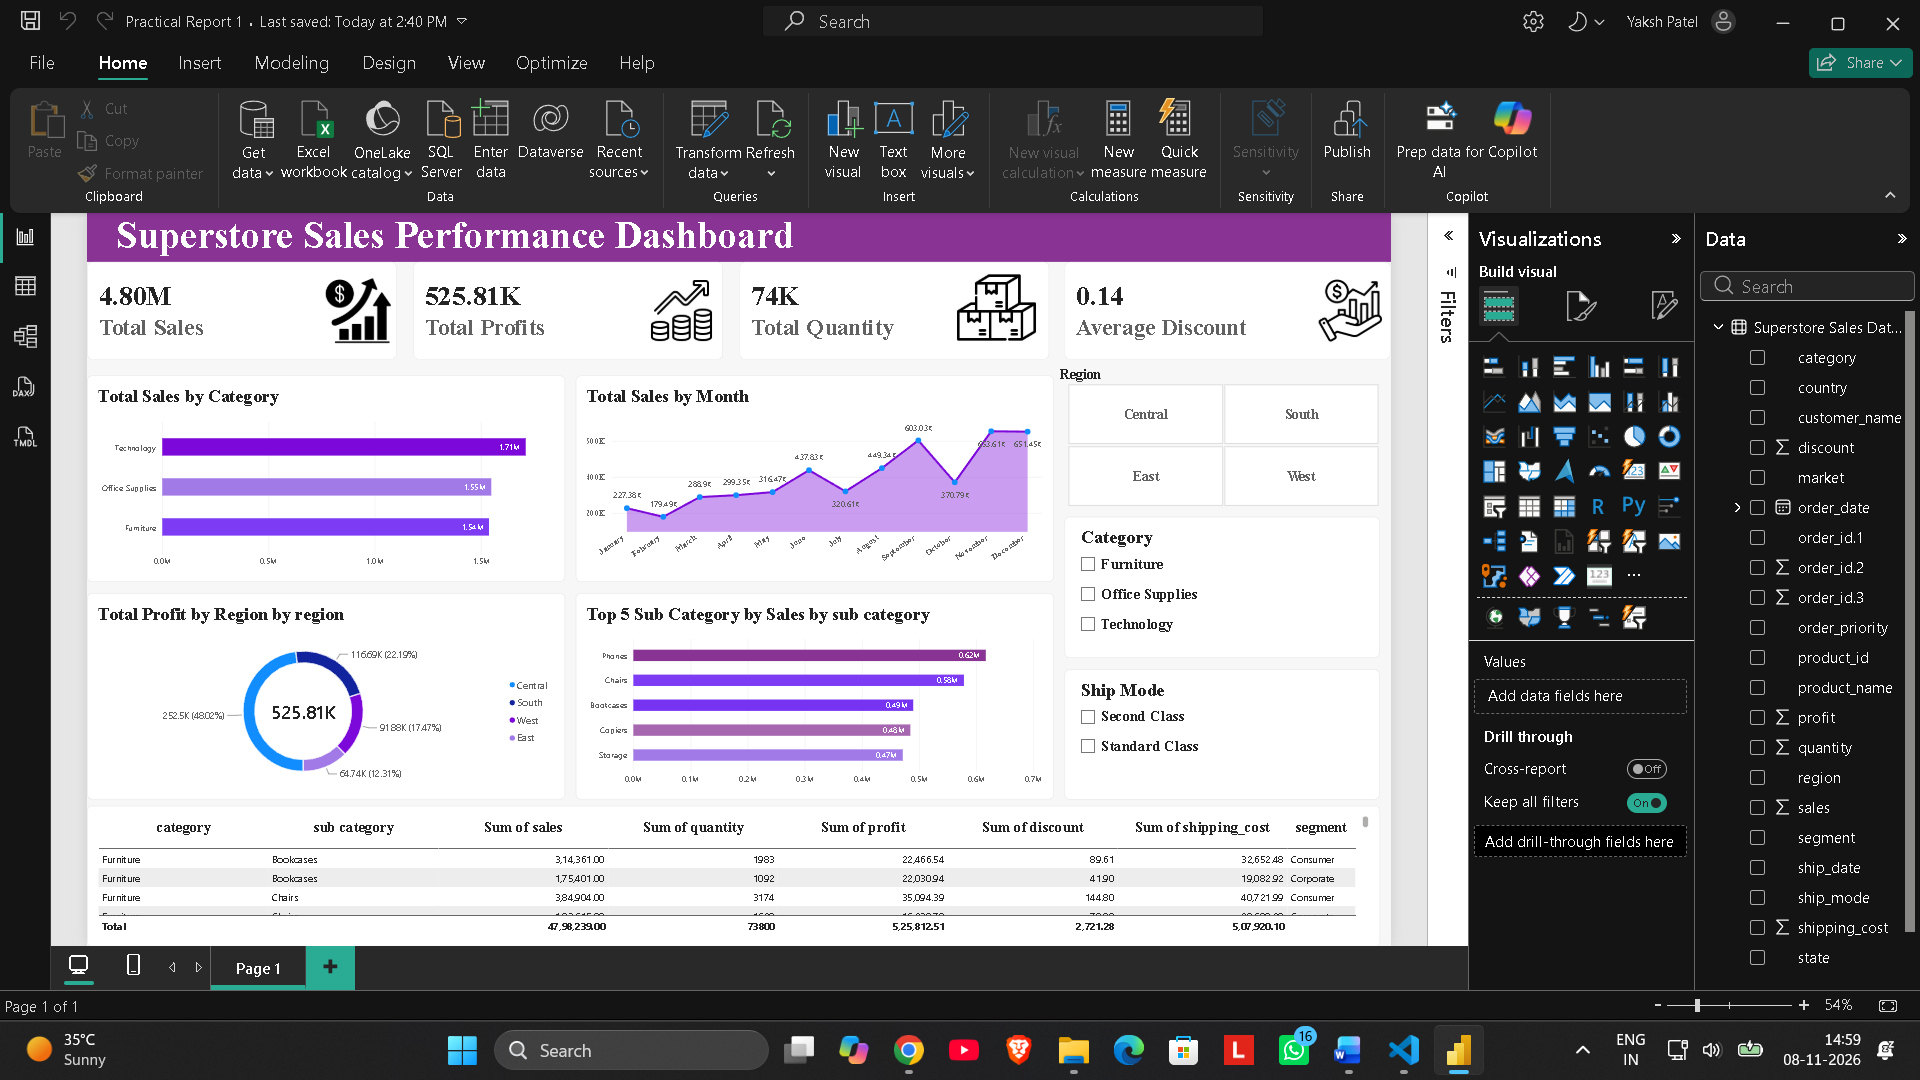

The dashboard page shown, as its layout file describes it:
{"tool":"powerbi","page":{"name":"Page 1","canvas":[1920,1080],"ordinal":0},"visuals":[{"type":"textbox","box":[0,0,1920,72],"z":0},{"type":"cardVisual","fields":{"Data":["Sum(Superstore Sales Dataset.sales)"]},"box":[0,72,456,144],"z":1000},{"type":"cardVisual","fields":{"Data":["Sum(Superstore Sales Dataset.quantity)"]},"box":[960,72,456,144],"z":2000},{"type":"cardVisual","fields":{"Data":["Avg(Superstore Sales Dataset.discount)"]},"box":[1440,72,480,144],"z":3000},{"type":"cardVisual","fields":{"Data":["Sum(Superstore Sales Dataset.profit)"]},"box":[480,72,456,144],"z":4000},{"type":"image","box":[352,96,96,96],"z":5000},{"type":"image","box":[816,96,120,96],"z":6000},{"type":"image","box":[1280,80,120,120],"z":7000},{"type":"image","box":[1800,96,120,96],"z":8000},{"type":"barChart","title":"Total Sales by Category","fields":{"Category":["Superstore Sales Dataset.category"],"Y":["Sum(Superstore Sales Dataset.sales)"]},"box":[0,240,704,304],"z":9000},{"type":"areaChart","title":"Total Sales by Month","fields":{"Category":["Superstore Sales Dataset.order_date.Variation.Date Hierarchy.Month"],"Y":["Sum(Superstore Sales Dataset.sales)"]},"box":[720,240,704,304],"z":10000},{"type":"donutChart","fields":{"Category":["Superstore Sales Dataset.region"],"Y":["Sum(Superstore Sales Dataset.profit)"]},"box":[0,560,704,304],"z":11000},{"type":"tableEx","fields":{"Values":["Superstore Sales Dataset.category","Superstore Sales Dataset.sub category","Sum(Superstore Sales Dataset.sales)","Sum(Superstore Sales Dataset.quantity)","Sum(Superstore Sales Dataset.profit)","Sum(Superstore Sales Dataset.discount)","Sum(Superstore Sales Dataset.shipping_cost)","Superstore Sales Dataset.segment"]},"box":[0,872,1904,208],"z":12000},{"type":"slicer","fields":{"Values":["Superstore Sales Dataset.category"]},"box":[1440,448,464,208],"z":13000},{"type":"slicer","title":"Region","fields":{"Values":["Superstore Sales Dataset.region"]},"box":[1424,224,496,208],"z":14000},{"type":"barChart","fields":{"Category":["Superstore Sales Dataset.sub category"],"Y":["Sum(Superstore Sales Dataset.sales)"]},"box":[720,560,704,304],"z":15000},{"type":"slicer","fields":{"Values":["Superstore Sales Dataset.ship_mode"]},"box":[1440,672,464,192],"z":15001}]}

Visuals, with their boxes on the page's 1920x1080 design canvas (x1, y1, x2, y2). These are canvas units, not pixel positions in the 1920x1080 screenshot, which may show the page scaled, cropped or inside an application window:
textbox: bbox=(0, 0, 1920, 72)
cardVisual - Sum(Superstore Sales Dataset.sales): bbox=(0, 72, 456, 216)
cardVisual - Sum(Superstore Sales Dataset.quantity): bbox=(960, 72, 1416, 216)
cardVisual - Avg(Superstore Sales Dataset.discount): bbox=(1440, 72, 1920, 216)
cardVisual - Sum(Superstore Sales Dataset.profit): bbox=(480, 72, 936, 216)
image: bbox=(352, 96, 448, 192)
image: bbox=(816, 96, 936, 192)
image: bbox=(1280, 80, 1400, 200)
image: bbox=(1800, 96, 1920, 192)
"Total Sales by Category" barChart: bbox=(0, 240, 704, 544)
"Total Sales by Month" areaChart: bbox=(720, 240, 1424, 544)
donutChart - Superstore Sales Dataset.region x Sum(Superstore Sales Dataset.profit): bbox=(0, 560, 704, 864)
tableEx - Superstore Sales Dataset.category x Superstore Sales Dataset.sub category: bbox=(0, 872, 1904, 1080)
slicer - Superstore Sales Dataset.category: bbox=(1440, 448, 1904, 656)
"Region" slicer: bbox=(1424, 224, 1920, 432)
barChart - Superstore Sales Dataset.sub category x Sum(Superstore Sales Dataset.sales): bbox=(720, 560, 1424, 864)
slicer - Superstore Sales Dataset.ship_mode: bbox=(1440, 672, 1904, 864)
